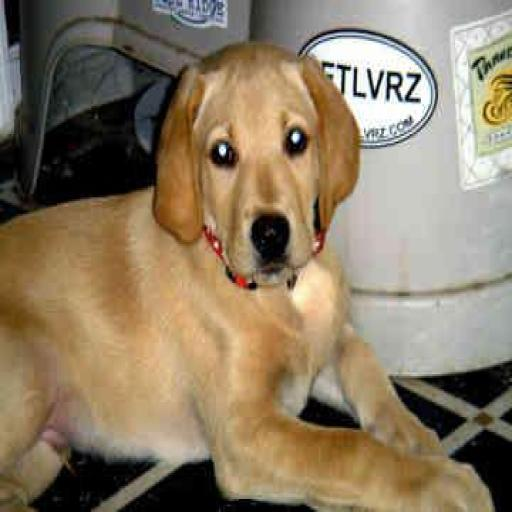dog_face: (166, 37, 352, 276)
